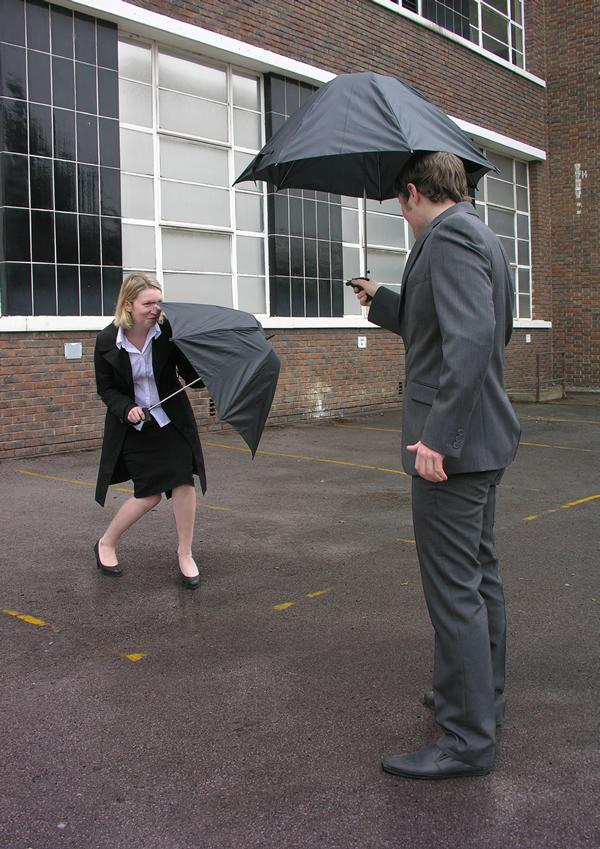person: (351, 151, 522, 781)
